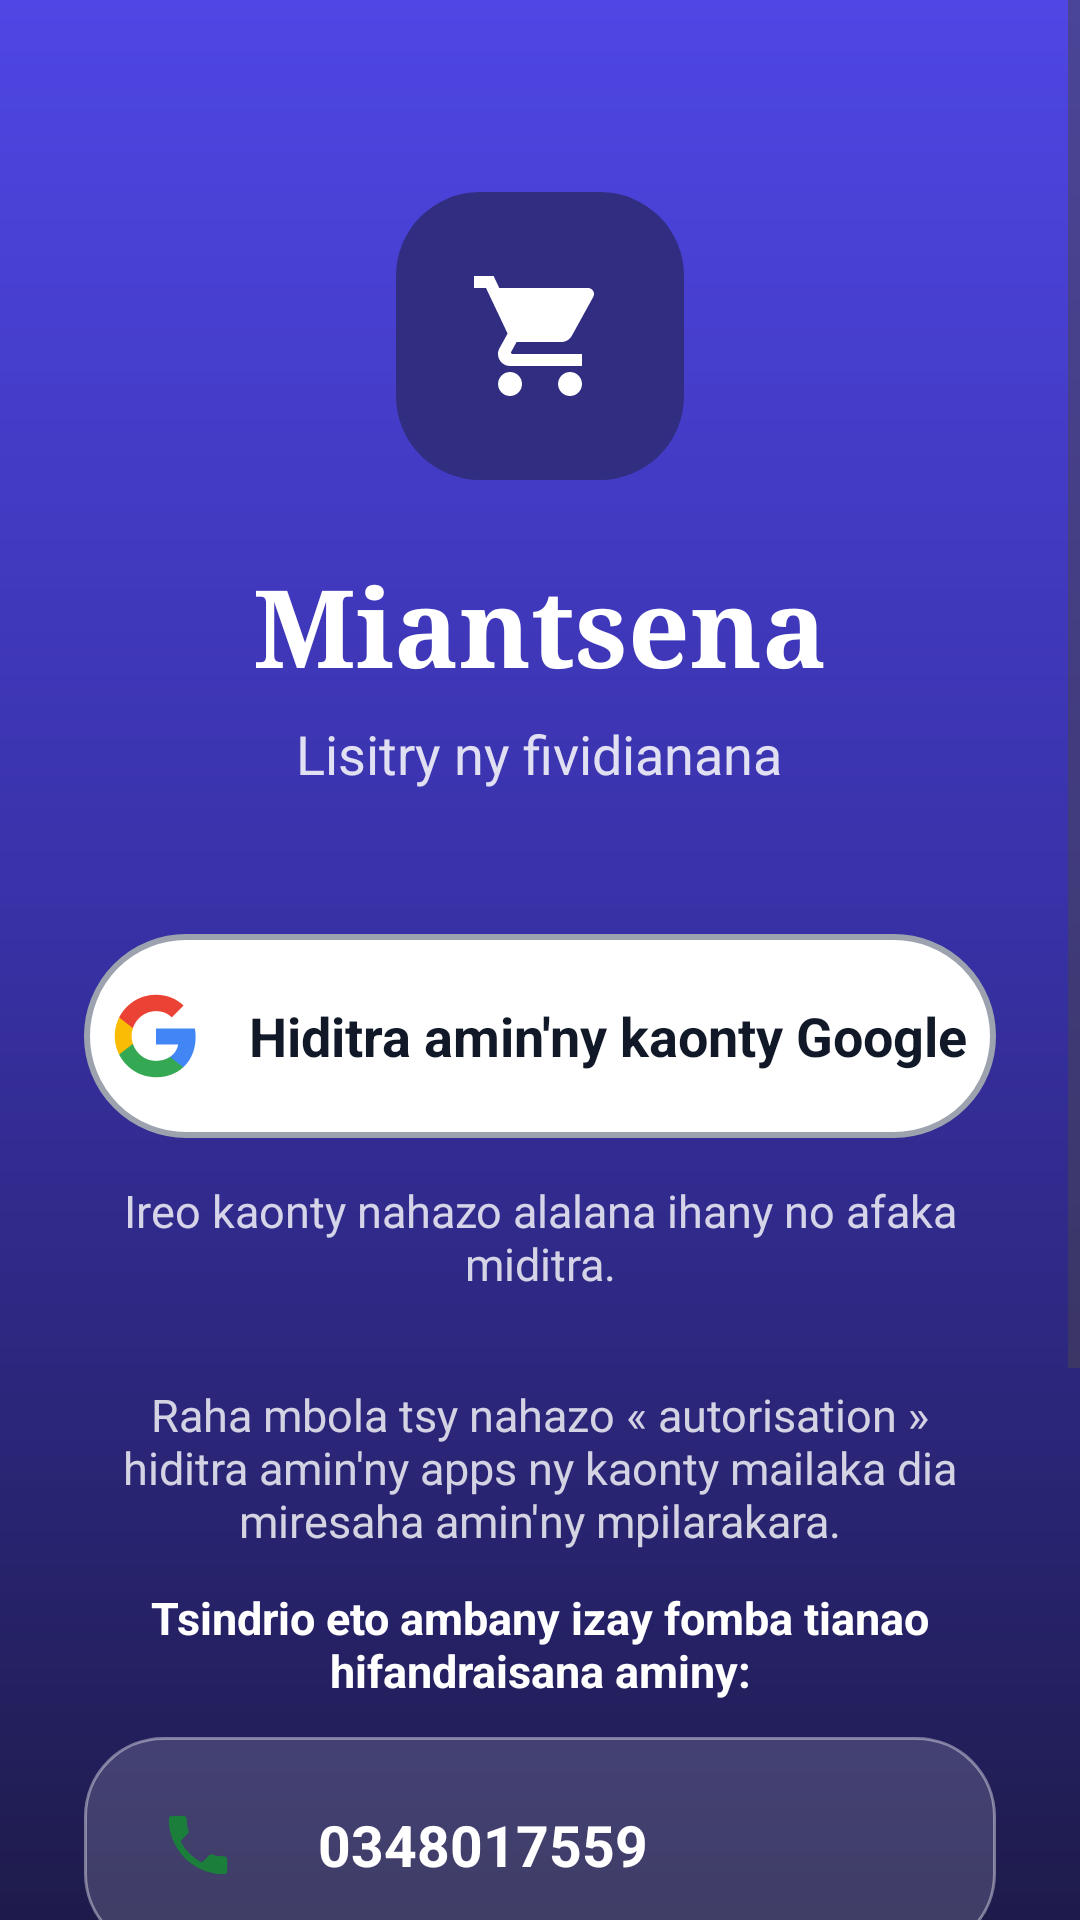

Where to tap for icons on this 1080 × 1920 app screen, as (x,y):
cart: (540,336)
phone: (198,1845)
